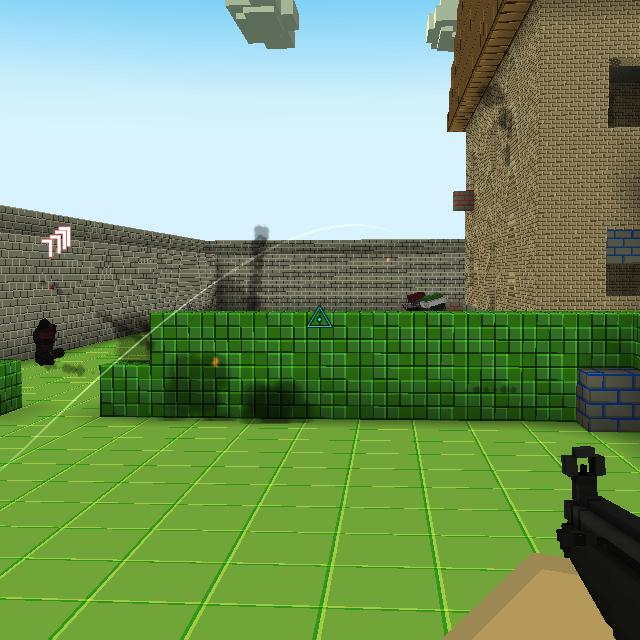enemy: (420, 292, 447, 312), (403, 291, 427, 312)
